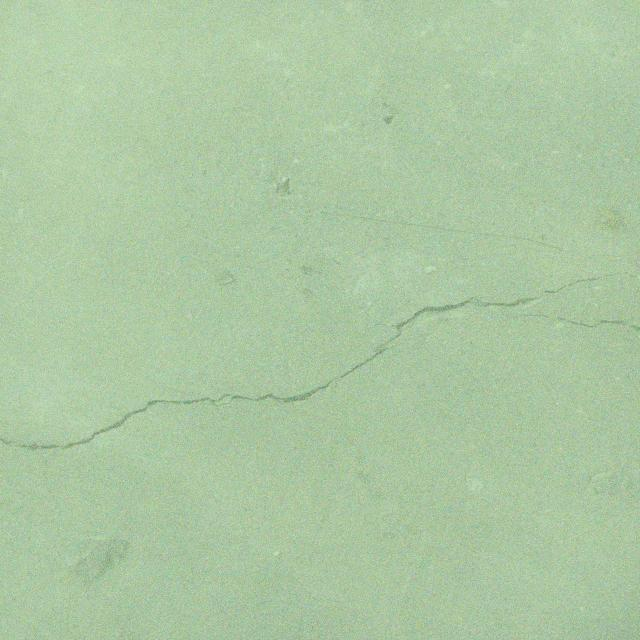crack: (0, 272, 638, 512), (504, 314, 640, 332)
